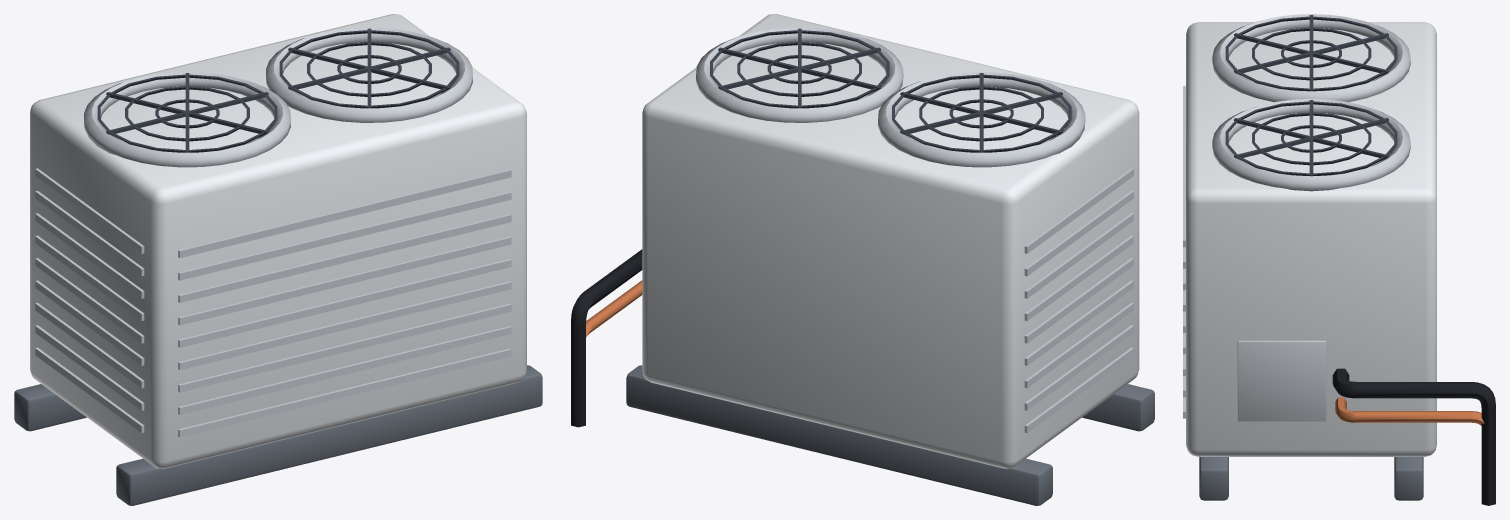
The model's file is condensadora_telhado.glb.
3 views of the same model, side by side, from view 1: azimuth 30°, elevation 25°; view 2: azimuth 150°, elevation 25°; view 3: azimuth 270°, elevation 25° (orthographic). The views are drawn at different scales.
Visible parts, largest first — view 1: condensadora_telhado; view 2: condensadora_telhado; view 3: condensadora_telhado.
Part boxes in pixels (<box>): condensadora_telhado: <box>14,14,542,505</box>; condensadora_telhado: <box>571,14,1154,505</box>; condensadora_telhado: <box>1183,14,1495,505</box>.
Size of the model in its own units: 1.62 by 1.16 by 1.06.
Materials: 1 (1 with a texture image).
